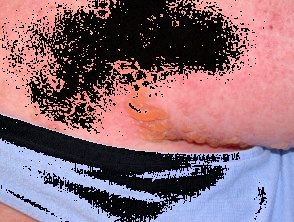SJS-TEN: (0, 0, 294, 174)
